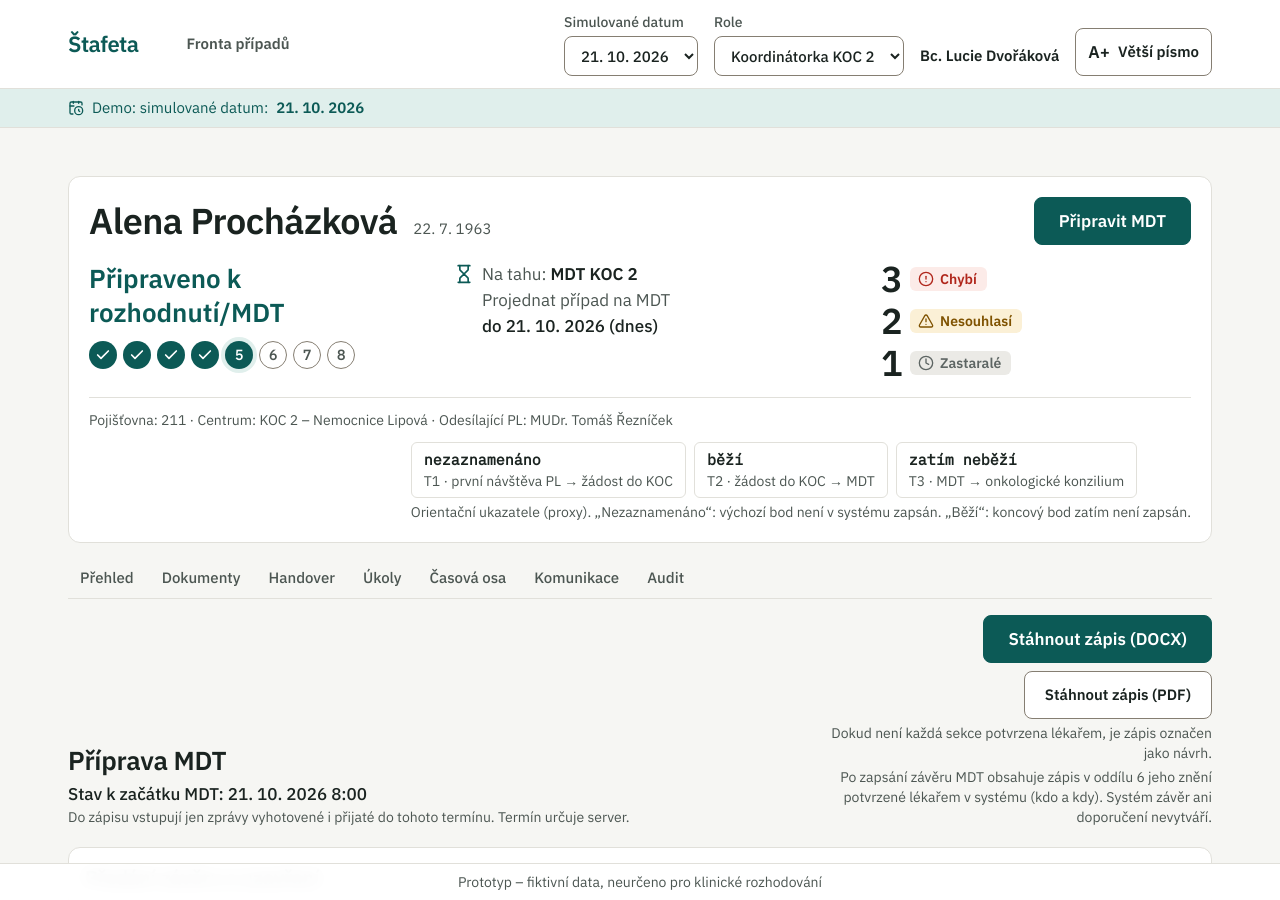
Test: record download (DOCX, PDF) › shows the API problem title when the record is refused
Click the button "Stáhnout zápis (DOCX)": point(1098, 639) [983,615,1212,663]
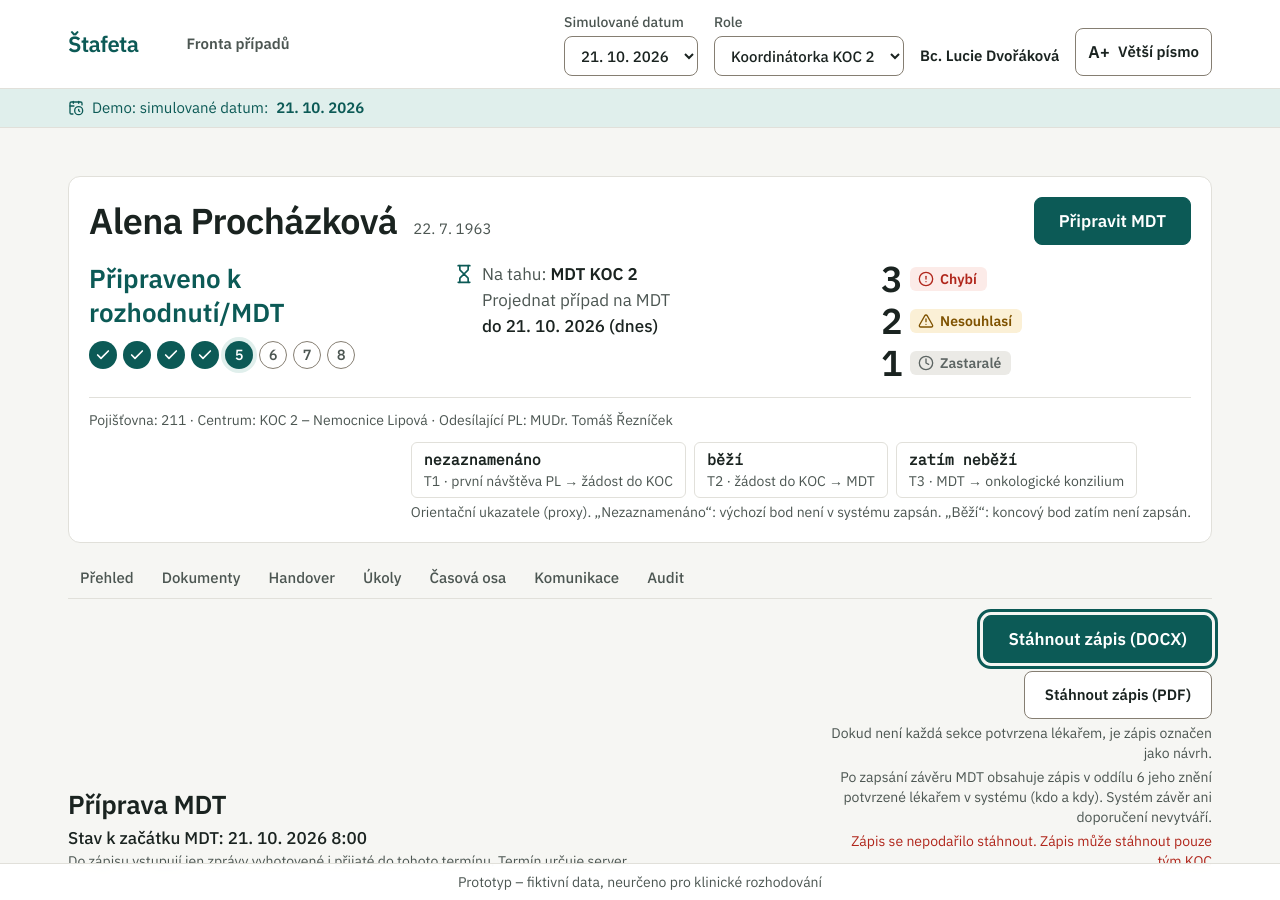
Expected: the message shows "Zápis může stáhnout pouze tým KOC", [1040,832,1212,870]
